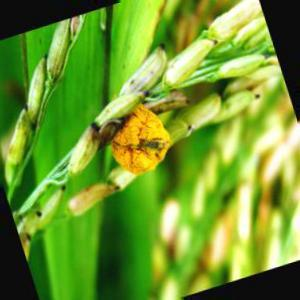Leaf_Scald: (116, 101, 164, 175)
